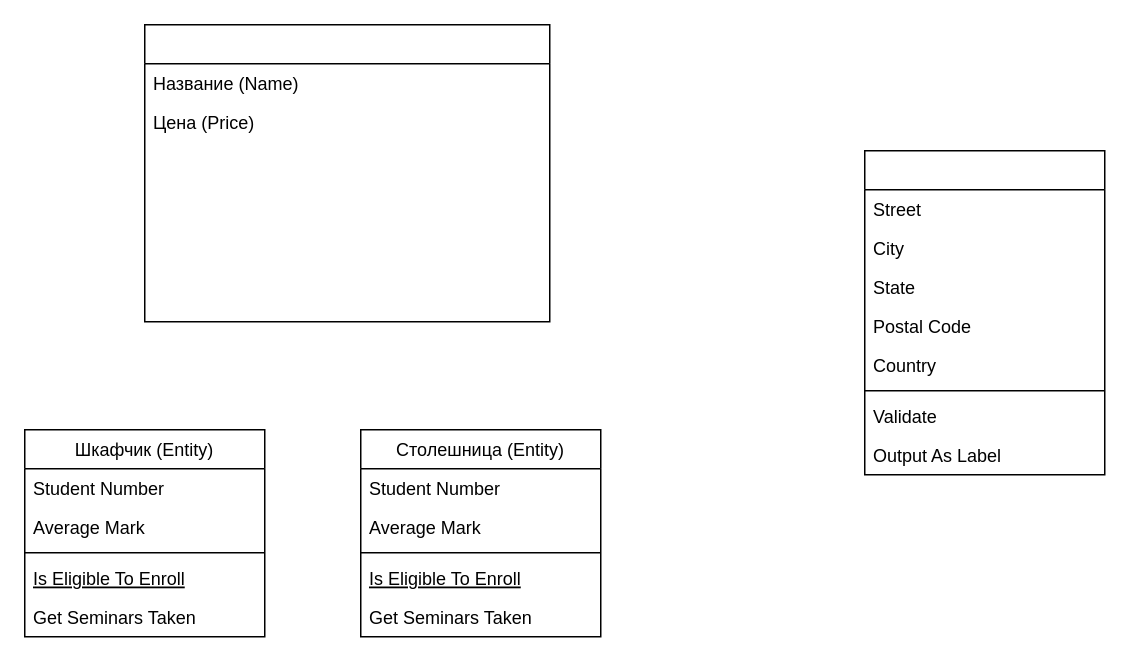
Some shapes in this 1130 by 662 pixel diagram are drawn without their labels. Here are the shapes that lost their labels. From the top down, the box of each, then its label:
(143, 23, 550, 322): Кухонный гарнитур (Агрегат)
(863, 149, 1105, 475): Address
